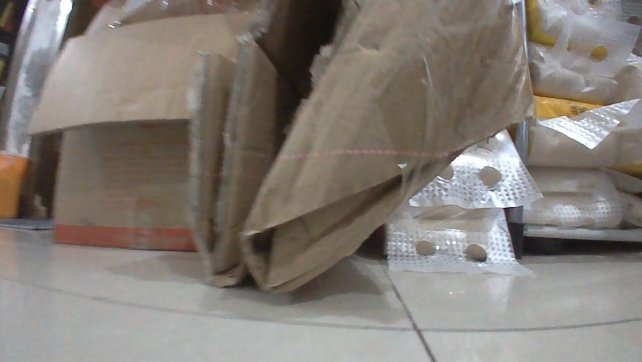blanket: (0, 215, 58, 231)
